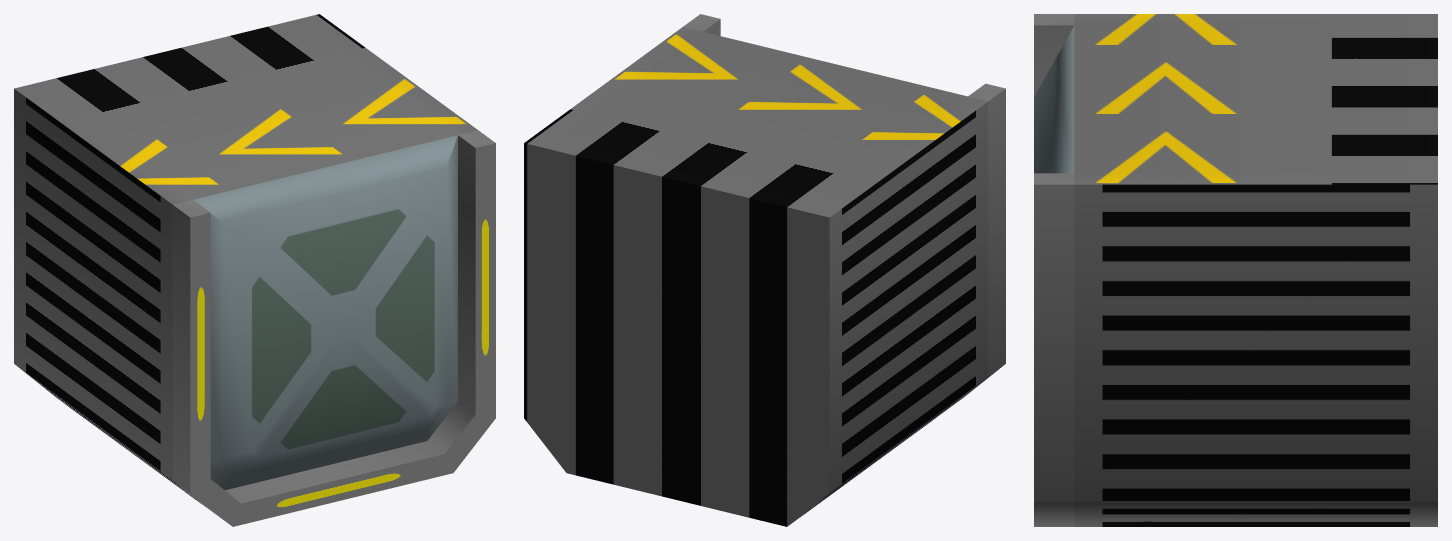
File: UModelSet.fbx
The picture shows the model from 3 angles, left to right: view 1: azimuth 30°, elevation 25°; view 2: azimuth 150°, elevation 25°; view 3: azimuth 270°, elevation 25°; orthographic projection. The views are drawn at different scales.
Parts seen in each view (by area): view 1: geo1; view 2: geo1; view 3: geo1.
Boxes of the visible parts, x1=… form: geo1: x1=14, y1=14, x2=495, y2=526; geo1: x1=524, y1=14, x2=1005, y2=526; geo1: x1=1034, y1=14, x2=1437, y2=526.
Size of the model in its own units: 3 by 3 by 3.
